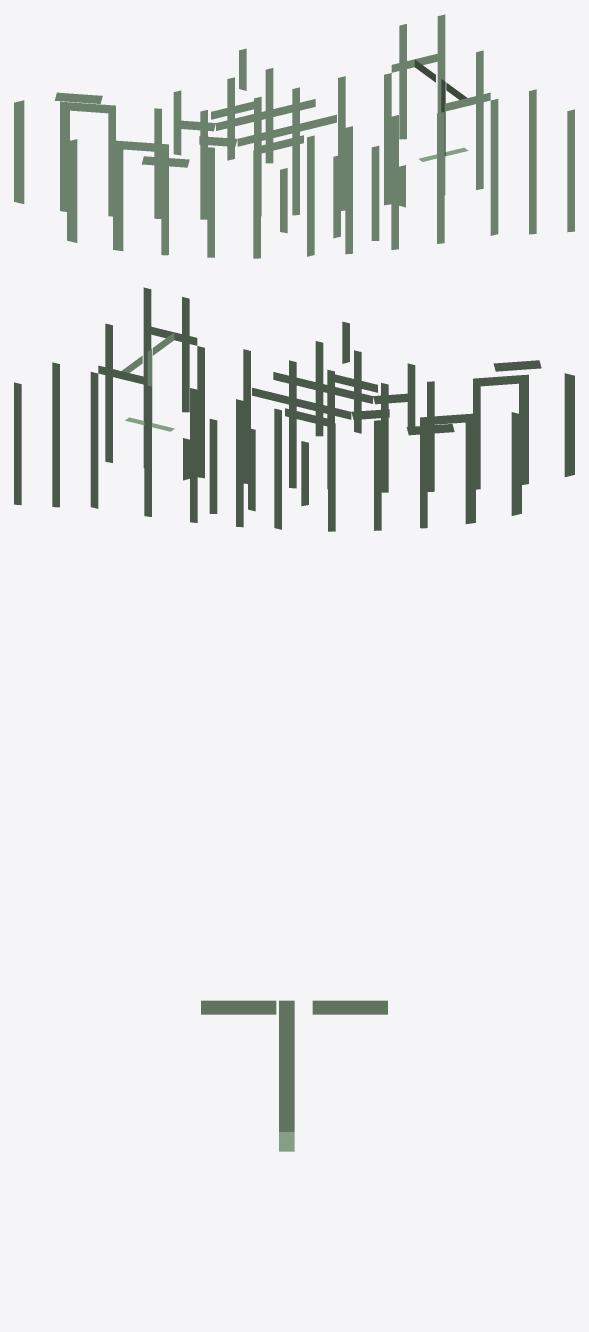
File: BILGE_WATER_SETT_TK.glb
3 renders of one model, top to bottom at view 1: azimuth 30°, elevation 25°; view 2: azimuth 150°, elevation 25°; view 3: azimuth 270°, elevation 25°, orthographic. The views are drawn at different scales.
Visible parts, largest first — view 1: ST_TransxFR25S_001001-FB_150x12_NVA_1993, ST_TransxFR17S_001001-FB_200x12_NVA_1993, ST_TransxFR16P_001001-FB_200x12_NVA_1993, ST_TransxFR16S_001001-FB_200x12_NVA_1993, ST_TransxFR23S_001001-FB_150x12_NVA_1993, ST_TransxFR24P_001001-FB_150x12_NVA_1993, ST_TransxFR24S_001001-FB_150x12_NVA_1993, ST_TransxFR26P_001001-FB_150x12_NVA_1993, ST_TransxFR22S_001001-FB_150x12_NVA_1993, ST_TransxFR26S_002001-FB_150x12_NVA_1993, ST_TransxFR21S_001001-FB_150x12_NVA_1993, ST_TransxFR25S_002001-FB_150x12_NVA_1993 (+35 smaller); view 2: ST_TransxFR25P_001001-FB_150x12_NVA_1993, ST_TransxFR17P_001001-FB_200x12_NVA_1993, ST_TransxFR16P_001001-FB_200x12_NVA_1993, ST_TransxFR16S_001001-FB_200x12_NVA_1993, ST_TransxFR23P_001001-FB_150x12_NVA_1993, ST_TransxFR24P_001001-FB_150x12_NVA_1993, ST_TransxFR24S_001001-FB_150x12_NVA_1993, ST_TransxFR26S_001001-FB_150x12_NVA_1993, ST_TransxFR22P_001001-FB_150x12_NVA_1993, ST_TransxFR26P_002001-FB_150x12_NVA_1993, ST_TransxFR21P_001001-FB_150x12_NVA_1993, ST_TransxFR25P_002001-FB_150x12_NVA_1993 (+35 smaller); view 3: ST_CenterGirderxEPR_012001-FB_150x20.5_NVA36_2014, ST_DoubleBottomxEPRS_023001-FB_150x20.5_NVA36_2014.
Boxes of the visible parts, x1,y1,x2,y2 form: ST_TransxFR25S_001001-FB_150x12_NVA_1993: [490, 99, 498, 235]; ST_TransxFR17S_001001-FB_200x12_NVA_1993: [113, 140, 123, 251]; ST_TransxFR16P_001001-FB_200x12_NVA_1993: [14, 100, 24, 203]; ST_TransxFR16S_001001-FB_200x12_NVA_1993: [67, 139, 77, 242]; ST_TransxFR23S_001001-FB_150x12_NVA_1993: [391, 115, 398, 249]; ST_TransxFR24P_001001-FB_150x12_NVA_1993: [384, 73, 391, 205]; ST_TransxFR24S_001001-FB_150x12_NVA_1993: [437, 112, 444, 243]; ST_TransxFR26P_001001-FB_150x12_NVA_1993: [476, 50, 483, 189]; ST_TransxFR22S_001001-FB_150x12_NVA_1993: [345, 126, 352, 254]; ST_TransxFR26S_002001-FB_150x12_NVA_1993: [567, 109, 574, 232]; ST_TransxFR21S_001001-FB_150x12_NVA_1993: [307, 135, 314, 256]; ST_TransxFR25S_002001-FB_150x12_NVA_1993: [529, 118, 536, 234]; ST_TransxFR25P_001001-FB_150x12_NVA_1993: [90, 372, 98, 508]; ST_TransxFR17P_001001-FB_200x12_NVA_1993: [465, 413, 475, 524]; ST_TransxFR16P_001001-FB_200x12_NVA_1993: [511, 412, 521, 515]; ST_TransxFR16S_001001-FB_200x12_NVA_1993: [564, 373, 574, 476]; ST_TransxFR23P_001001-FB_150x12_NVA_1993: [190, 388, 197, 522]; ST_TransxFR24P_001001-FB_150x12_NVA_1993: [144, 385, 151, 516]; ST_TransxFR24S_001001-FB_150x12_NVA_1993: [197, 346, 204, 478]; ST_TransxFR26S_001001-FB_150x12_NVA_1993: [105, 323, 112, 462]; ST_TransxFR22P_001001-FB_150x12_NVA_1993: [236, 399, 243, 527]; ST_TransxFR26P_002001-FB_150x12_NVA_1993: [14, 382, 21, 505]; ST_TransxFR21P_001001-FB_150x12_NVA_1993: [274, 408, 281, 529]; ST_TransxFR25P_002001-FB_150x12_NVA_1993: [52, 391, 59, 507]; ST_CenterGirderxEPR_012001-FB_150x20.5_NVA36_2014: [279, 1000, 294, 1131]; ST_DoubleBottomxEPRS_023001-FB_150x20.5_NVA36_2014: [201, 1000, 276, 1014].
Bounding box in the file's own units: 9.2 × 3.76 × 5.4.
